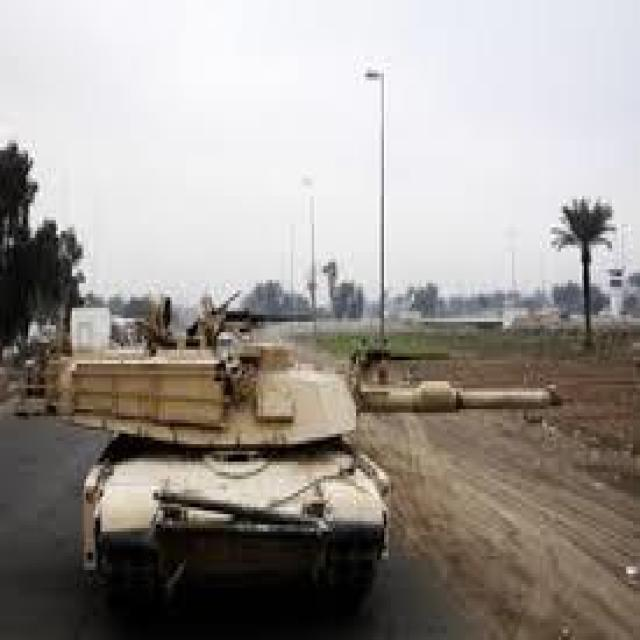Tanks: (47, 299, 407, 596)
